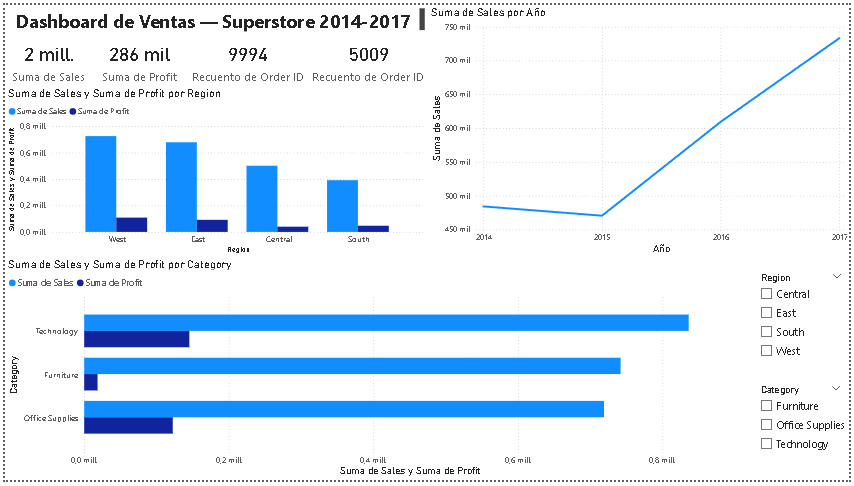

The dashboard page shown, as its layout file describes it:
{"tool":"powerbi","page":{"name":"Página 1","canvas":[1280,720],"ordinal":0},"visuals":[{"type":"card","fields":{"Values":["Sum(Sample - Superstore.Sales)"]},"box":[0,45.5,131.8,77.3],"z":0},{"type":"card","fields":{"Values":["Sum(Sample - Superstore.Profit)"]},"box":[131.8,45.5,143.9,77.3],"z":1000},{"type":"card","fields":{"Values":["CountNonNull(Sample - Superstore.Order ID)"]},"box":[275.8,45.5,184.8,77.3],"z":2000},{"type":"card","fields":{"Values":["Count(Sample - Superstore.Order ID)"]},"box":[460.6,45.5,178.8,77.3],"z":3000},{"type":"clusteredBarChart","fields":{"Category":["Sample - Superstore.Category"],"Y":["Sum(Sample - Superstore.Sales)","Sum(Sample - Superstore.Profit)"]},"box":[0,381.8,1131.8,337.9],"z":4000},{"type":"clusteredColumnChart","fields":{"Category":["Sample - Superstore.Region"],"Y":["Sum(Sample - Superstore.Sales)","Sum(Sample - Superstore.Profit)"]},"box":[0,122.7,639.4,259.1],"z":5000},{"type":"lineChart","fields":{"Y":["Sum(Sample - Superstore.Sales)"],"Category":["Sample - Superstore.Order Date.Variación.Jerarquía de fechas.Año","Sample - Superstore.Order Date.Variación.Jerarquía de fechas.Trimestre","Sample - Superstore.Order Date.Variación.Jerarquía de fechas.Mes","Sample - Superstore.Order Date.Variación.Jerarquía de fechas.Día"]},"box":[640.3,0,640.3,382.3],"z":6000},{"type":"slicer","fields":{"Values":["Sample - Superstore.Region"]},"box":[1131.8,400,148.5,151.5],"z":7000},{"type":"slicer","fields":{"Values":["Sample - Superstore.Category"]},"box":[1131.8,569.7,147,151.5],"z":8000},{"type":"textbox","box":[0,0,640.9,45.5],"z":9000}]}

Visuals, with their boxes in screenshot pixels (x1, y1, x2, y2), scaled from the page's 1280x720 canvas onto the 854x486 screenshot:
card - Sum(Sample - Superstore.Sales): bbox(0, 31, 88, 83)
card - Sum(Sample - Superstore.Profit): bbox(88, 31, 184, 83)
card - CountNonNull(Sample - Superstore.Order ID): bbox(184, 31, 307, 83)
card - Count(Sample - Superstore.Order ID): bbox(307, 31, 427, 83)
clusteredBarChart - Sample - Superstore.Category x Sum(Sample - Superstore.Sales): bbox(0, 258, 755, 485)
clusteredColumnChart - Sample - Superstore.Region x Sum(Sample - Superstore.Sales): bbox(0, 83, 427, 258)
lineChart - Sum(Sample - Superstore.Sales) x Sample - Superstore.Order Date.Variación.Jerarquía de fechas.Año: bbox(427, 0, 853, 258)
slicer - Sample - Superstore.Region: bbox(755, 270, 853, 372)
slicer - Sample - Superstore.Category: bbox(755, 385, 853, 485)
textbox: bbox(0, 0, 428, 31)
